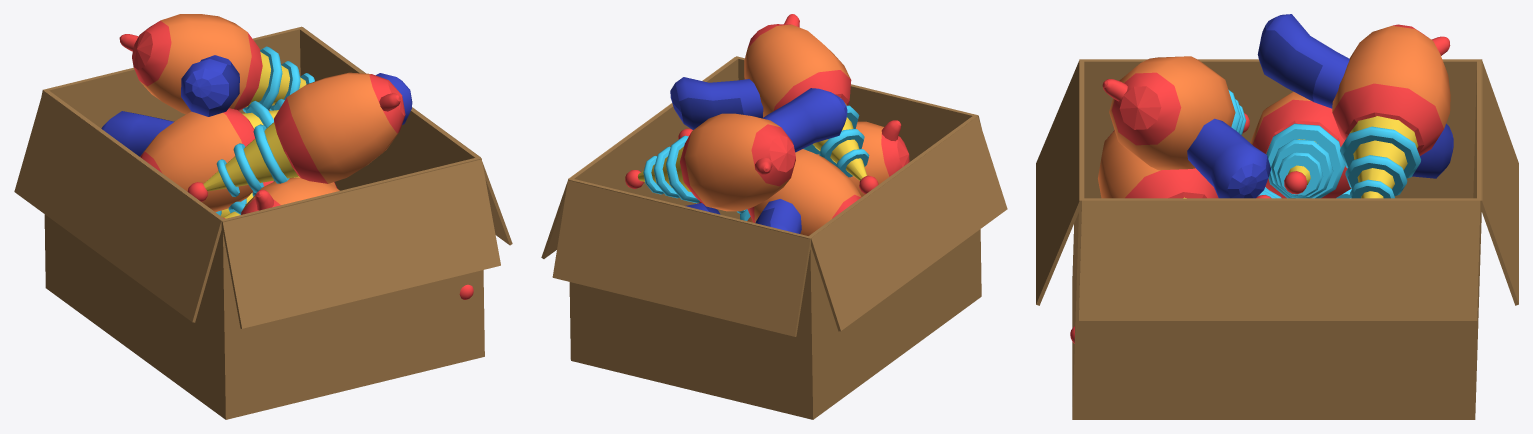
File: gunbox_0324.fbx
3 views of the same model, side by side, from view 1: azimuth 30°, elevation 25°; view 2: azimuth 150°, elevation 25°; view 3: azimuth 270°, elevation 25° (orthographic). The views are drawn at different scales.
Visible parts, largest first — view 1: Object010; view 2: Object010; view 3: Object010.
Part boxes in pixels (left/top/right/bottom): Object010: left=14, top=14, right=512, bottom=419; Object010: left=541, top=14, right=1007, bottom=419; Object010: left=1036, top=14, right=1518, bottom=419.
Size of the model in its own units: 70.97 by 59.47 by 82.86.
Materials: 2 (2 with a texture image).
